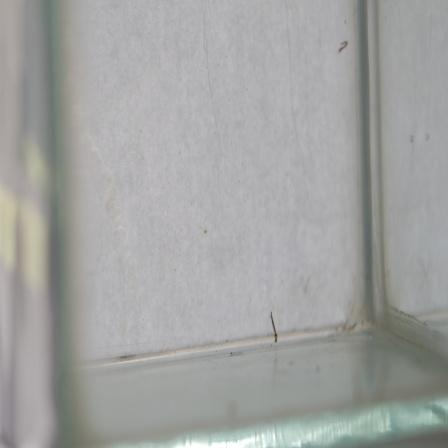Jentik-Nyamuk: (264, 309, 281, 345)
